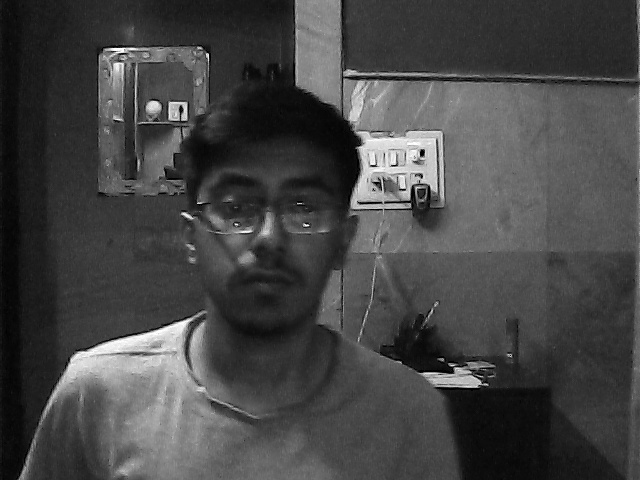nomask: (191, 148, 340, 339)
